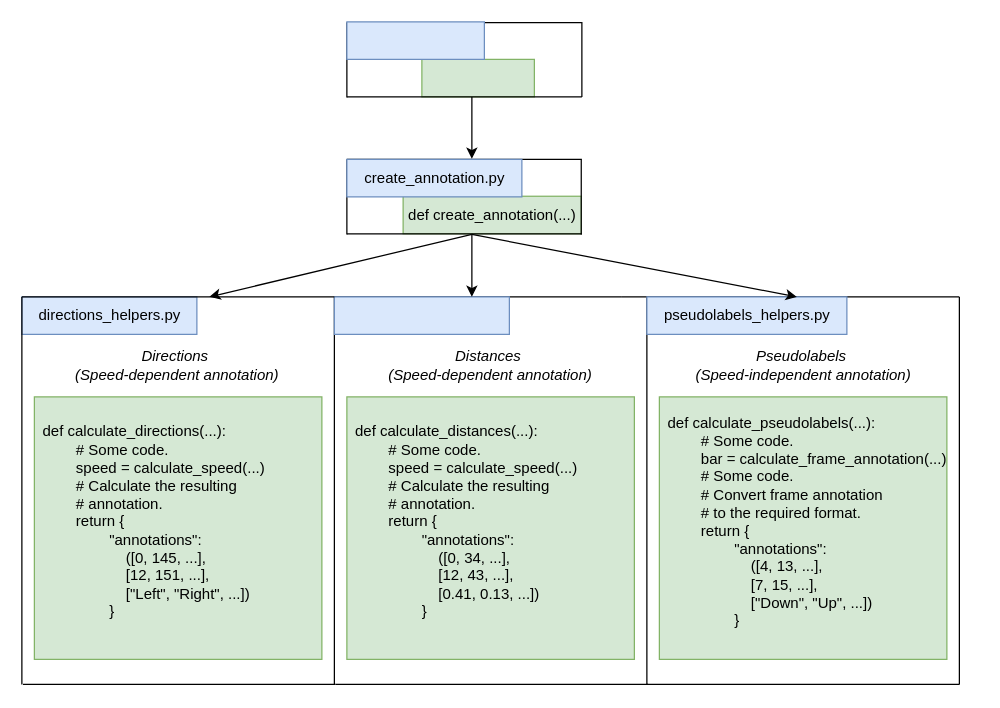
This 1000x708 diagram has some shape labels left out. The centre of each missing label's shape, as x and y in pixels:
"def main(...)" belongs at pixel 477 77.
"distances_helpers.py" belongs at pixel 421 315.
"pseudolabels.py" belongs at pixel 415 40.
